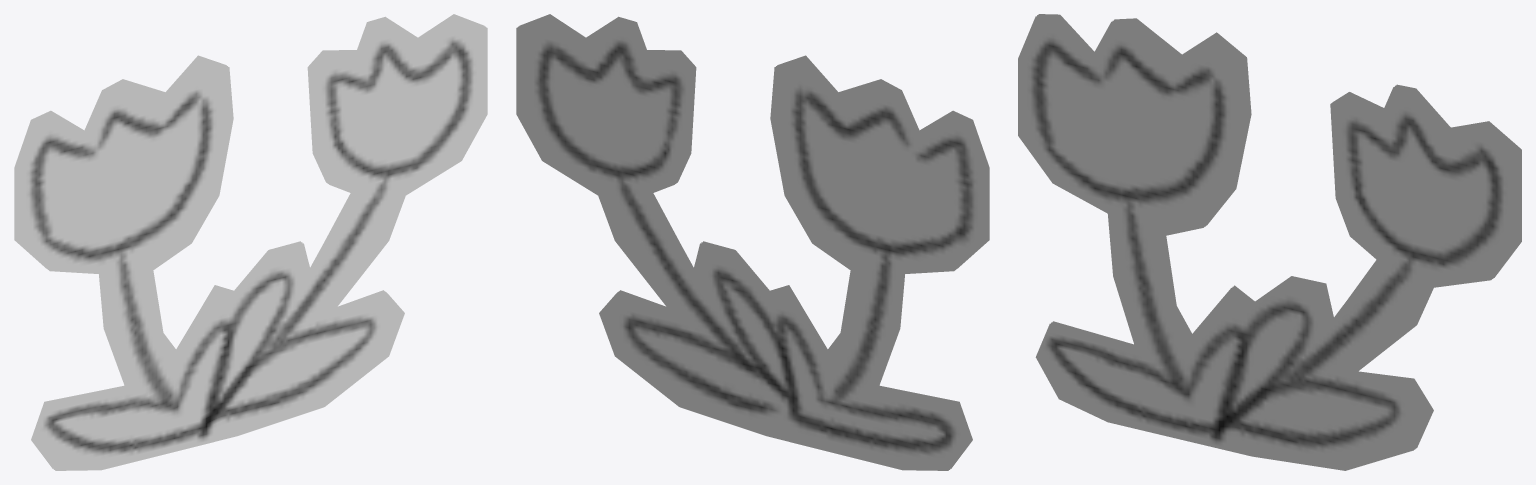
Rendered from Tulips.fbx.
The picture shows the model from 3 angles, left to right: view 1: azimuth 30°, elevation 25°; view 2: azimuth 150°, elevation 25°; view 3: azimuth 330°, elevation 25°; orthographic projection. The views are drawn at different scales.
Parts seen in each view (by area): view 1: Plane.004, Plane.003, Plane.002; view 2: Plane.002, Plane.004, Plane.003; view 3: Plane.004, Plane.003, Plane.002.
Part boxes in pixels (<box>): Plane.004: <box>17,16,487,470</box>; Plane.003: <box>16,15,485,469</box>; Plane.002: <box>14,14,484,468</box>; Plane.002: <box>516,16,986,470</box>; Plane.004: <box>519,14,989,468</box>; Plane.003: <box>518,15,987,469</box>; Plane.004: <box>1018,16,1518,470</box>; Plane.003: <box>1037,15,1520,449</box>; Plane.002: <box>1038,14,1521,448</box>.
Bounding box in the file's own units: 16.58 × 13.09 × 0.1804.
Materials: 1 (1 with a texture image).
